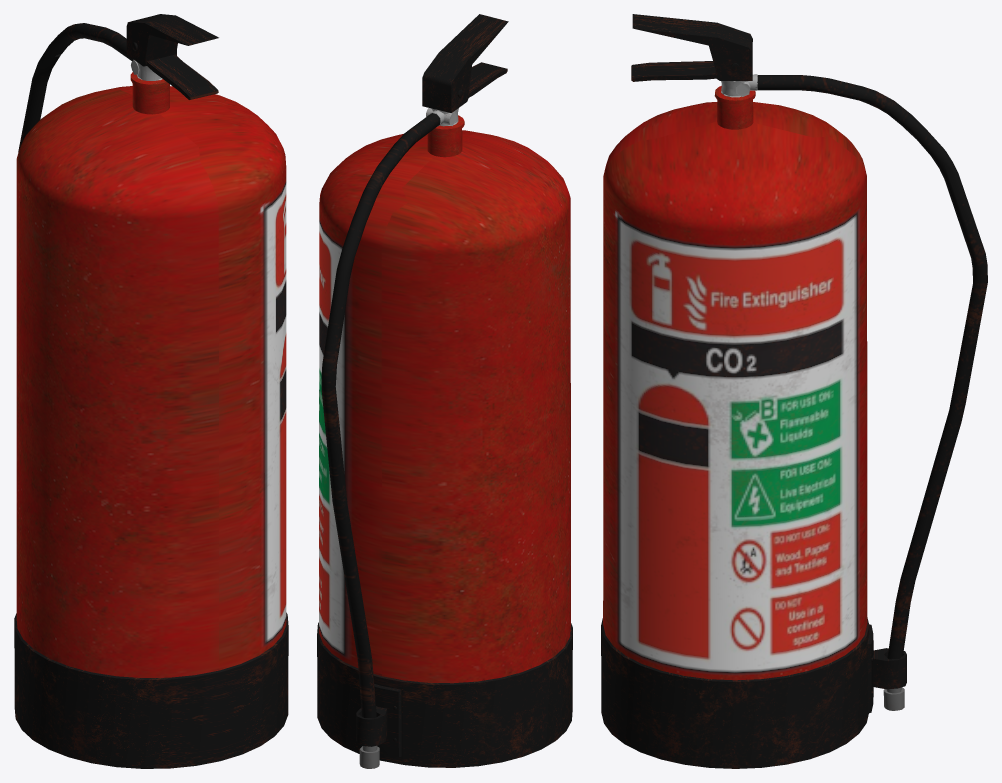
The model's file is fire_extinguisher.glb.
The picture shows the model from 3 angles, left to right: view 1: azimuth 30°, elevation 25°; view 2: azimuth 150°, elevation 25°; view 3: azimuth 270°, elevation 25°; orthographic projection. The views are drawn at different scales.
Visible parts, largest first — view 1: Fire_Extinguisher_FireExtinguisher_0; view 2: Fire_Extinguisher_FireExtinguisher_0; view 3: Fire_Extinguisher_FireExtinguisher_0.
Part boxes in pixels (x1=…): Fire_Extinguisher_FireExtinguisher_0: x1=14, y1=14, x2=288, y2=768; Fire_Extinguisher_FireExtinguisher_0: x1=317, y1=14, x2=572, y2=768; Fire_Extinguisher_FireExtinguisher_0: x1=601, y1=14, x2=987, y2=768.
Bounding box in the file's own units: 2.03 × 5.78 × 2.93.
1 material, 1 textured.
